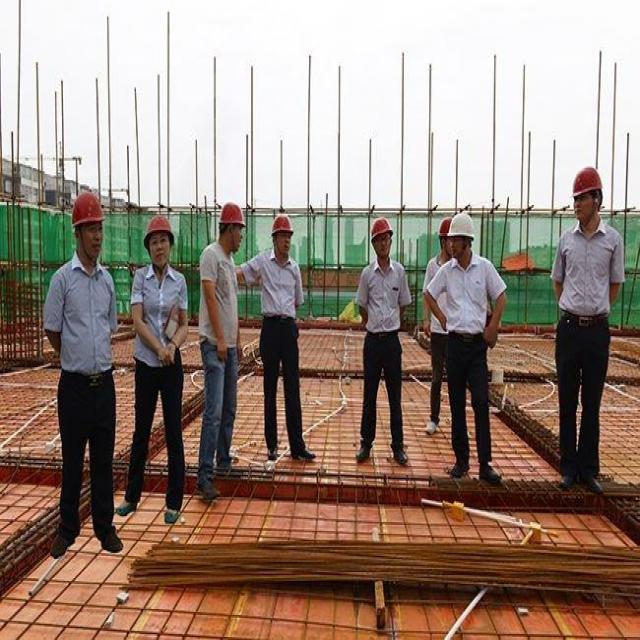helmet: (62, 186, 110, 236), (564, 167, 611, 200), (140, 215, 176, 248), (448, 214, 482, 242), (215, 202, 248, 230), (371, 217, 400, 246), (267, 217, 300, 236)
no-vest: (52, 257, 117, 382), (560, 228, 622, 344), (133, 267, 197, 376), (195, 245, 242, 345), (438, 261, 501, 332), (257, 255, 309, 333), (360, 260, 410, 334)
person: (46, 183, 119, 565), (548, 164, 626, 498), (436, 211, 509, 489), (193, 193, 244, 513), (133, 206, 181, 538), (253, 214, 309, 470), (362, 208, 410, 479)
